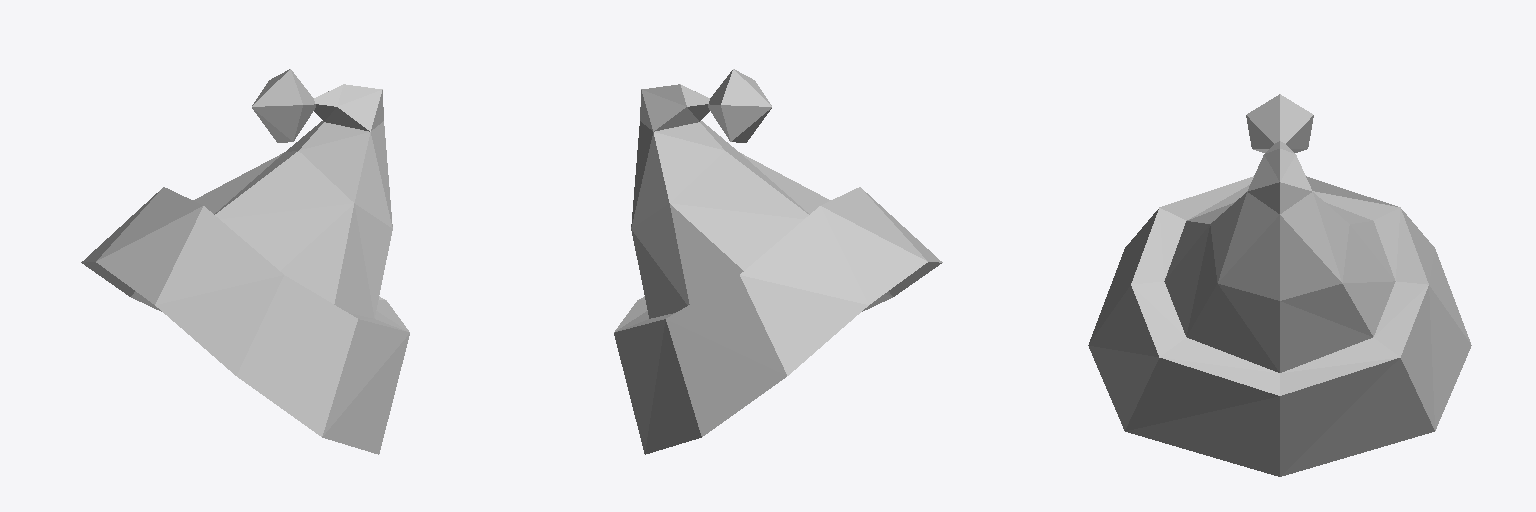
Rendered from santa hat.obj.
3 renders of one model, left to right at view 1: azimuth 30°, elevation 25°; view 2: azimuth 150°, elevation 25°; view 3: azimuth 270°, elevation 25°, orthographic.
Visible parts, largest first — view 1: gXmasHat; view 2: gXmasHat; view 3: gXmasHat.
Part boxes in pixels (left/top/right/bottom): gXmasHat: left=81, top=69, right=409, bottom=454; gXmasHat: left=614, top=69, right=942, bottom=454; gXmasHat: left=1088, top=94, right=1471, bottom=476.
Size of the model in its own units: 1.49 by 1.94 by 1.89.